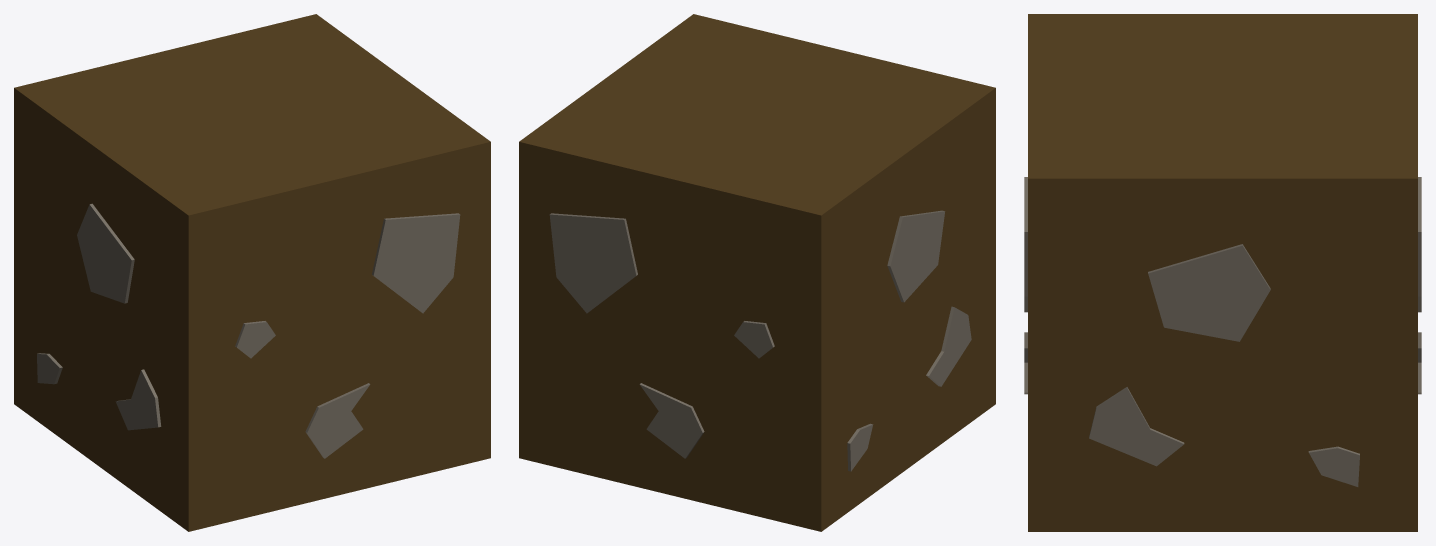
File: TerrainDirt.fbx
The picture shows the model from 3 angles, left to right: view 1: azimuth 30°, elevation 25°; view 2: azimuth 150°, elevation 25°; view 3: azimuth 270°, elevation 25°; orthographic projection. The views are drawn at different scales.
Visible parts, largest first — view 1: Tile_Grass.006, Rocks2G2.002, Rocks1G2.002; view 2: Tile_Grass.006, Rocks2G2.002, Rocks1G2.002; view 3: Tile_Grass.006, Rocks1G2.002, Rocks2G2.002.
Part boxes in pixels (bbox=[...]): Tile_Grass.006: bbox=[14, 14, 490, 531]; Rocks2G2.002: bbox=[235, 213, 460, 458]; Rocks1G2.002: bbox=[37, 203, 161, 430]; Tile_Grass.006: bbox=[519, 14, 995, 531]; Rocks2G2.002: bbox=[549, 213, 774, 458]; Rocks1G2.002: bbox=[847, 210, 971, 471]; Tile_Grass.006: bbox=[1028, 14, 1417, 531]; Rocks1G2.002: bbox=[1089, 244, 1359, 486]; Rocks2G2.002: bbox=[1024, 177, 1421, 394].
Bounding box in the file's own units: 204 × 200 × 204.
